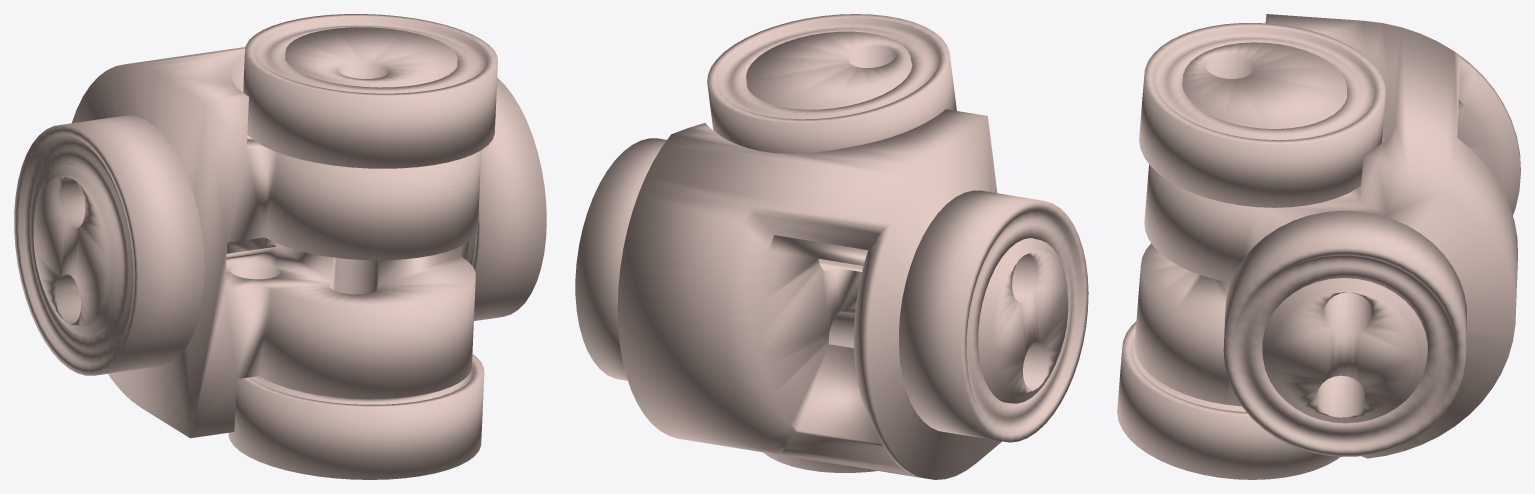
Rendered from index_knuckle_1.obj.
The picture shows the model from 3 angles, left to right: view 1: azimuth 30°, elevation 25°; view 2: azimuth 150°, elevation 25°; view 3: azimuth 270°, elevation 25°; orthographic projection. The views are drawn at different scales.
Bounding box in the file's own units: 19.46 × 17.02 × 16.66.
